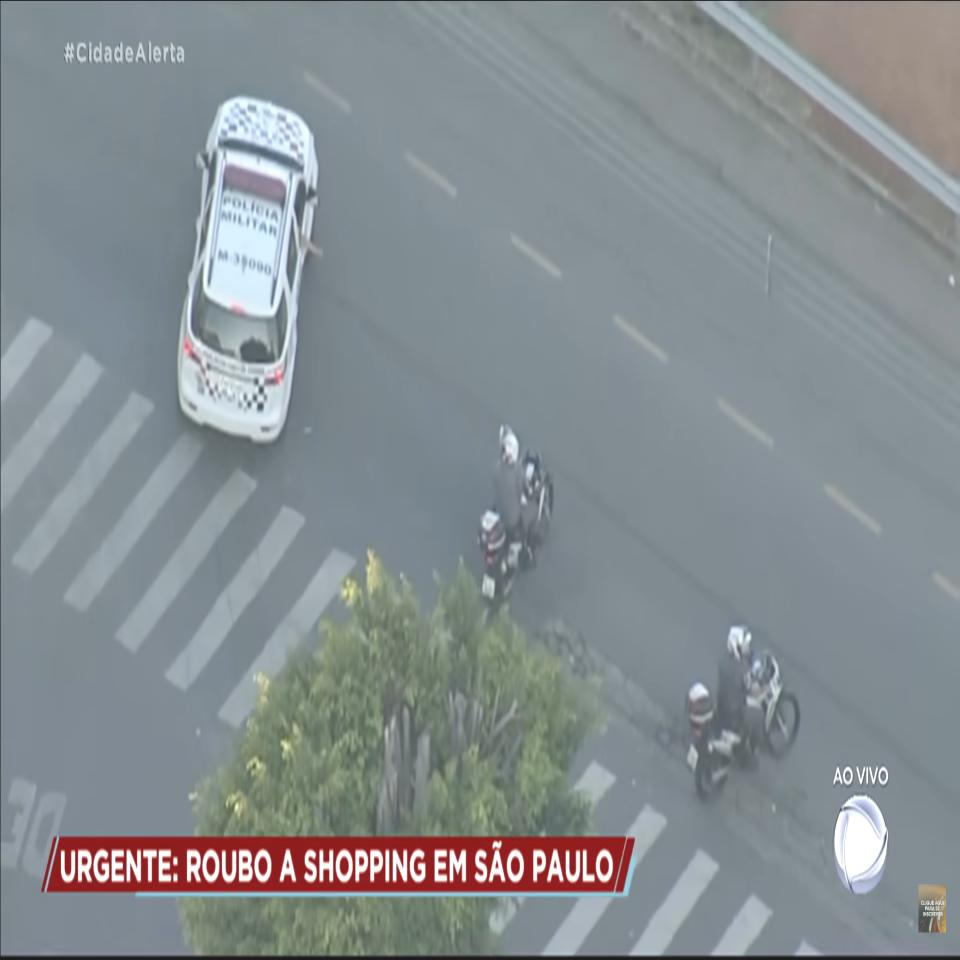viatura: (173, 88, 322, 452)
